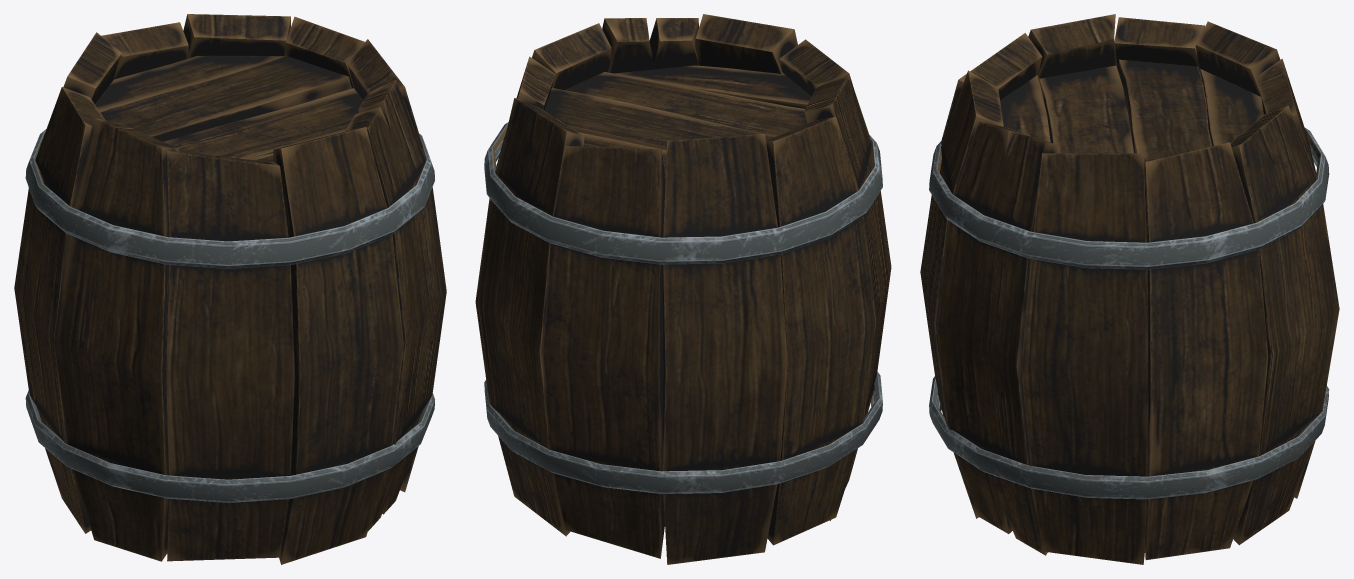
File: barrel.glb
3 renders of one model, left to right at view 1: azimuth 30°, elevation 25°; view 2: azimuth 150°, elevation 25°; view 3: azimuth 270°, elevation 25°, orthographic.
Parts seen in each view (by area): view 1: Barrel.001_0; view 2: Barrel.001_0; view 3: Barrel.001_0.
Part boxes in pixels (left/top/right/bottom): Barrel.001_0: left=14, top=14, right=446, bottom=564; Barrel.001_0: left=475, top=14, right=891, bottom=564; Barrel.001_0: left=920, top=14, right=1339, bottom=564.
Bounding box in the file's own units: 0.5137 × 0.5687 × 0.5088.
Materials: 1 (1 with a texture image).
